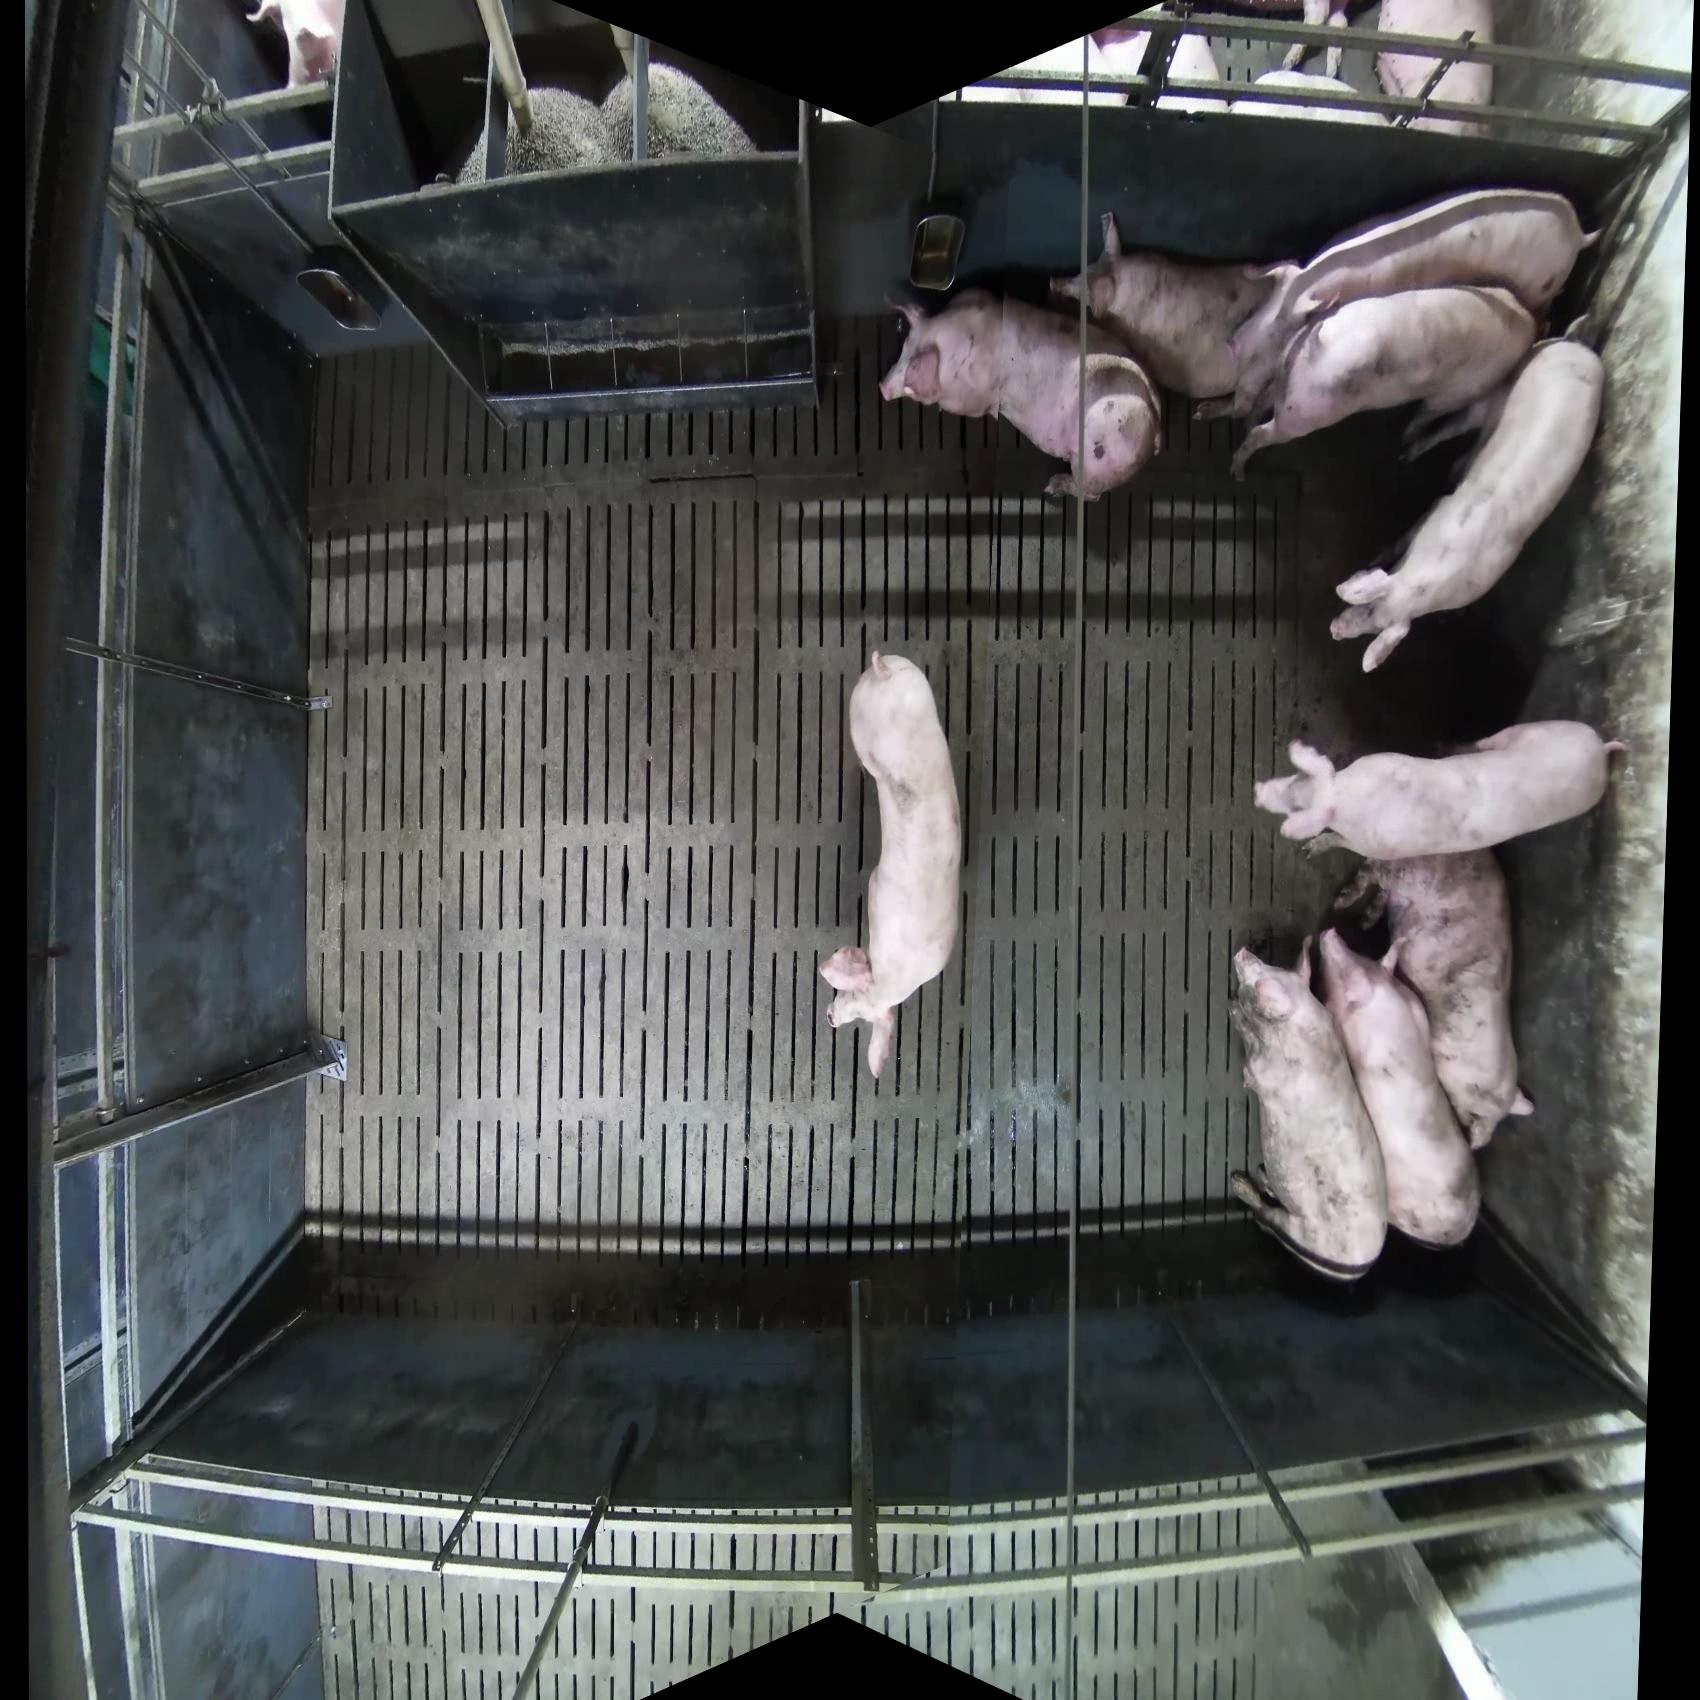pig: (1328, 336, 1608, 674), (1224, 185, 1596, 417), (878, 277, 1164, 504), (817, 651, 964, 1080), (1228, 283, 1540, 484), (1336, 847, 1537, 1154), (1312, 925, 1484, 1252), (1227, 945, 1390, 1283), (1252, 718, 1630, 862), (1049, 210, 1301, 408), (1375, 2, 1498, 137), (596, 62, 760, 163), (1088, 23, 1228, 117), (500, 87, 616, 177), (1230, 67, 1389, 125), (1281, 2, 1358, 86)
